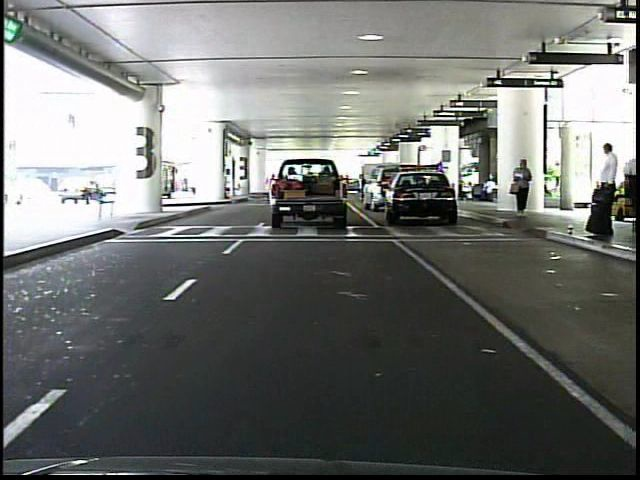person: (585, 138, 620, 244), (511, 151, 538, 223), (433, 160, 449, 205)
